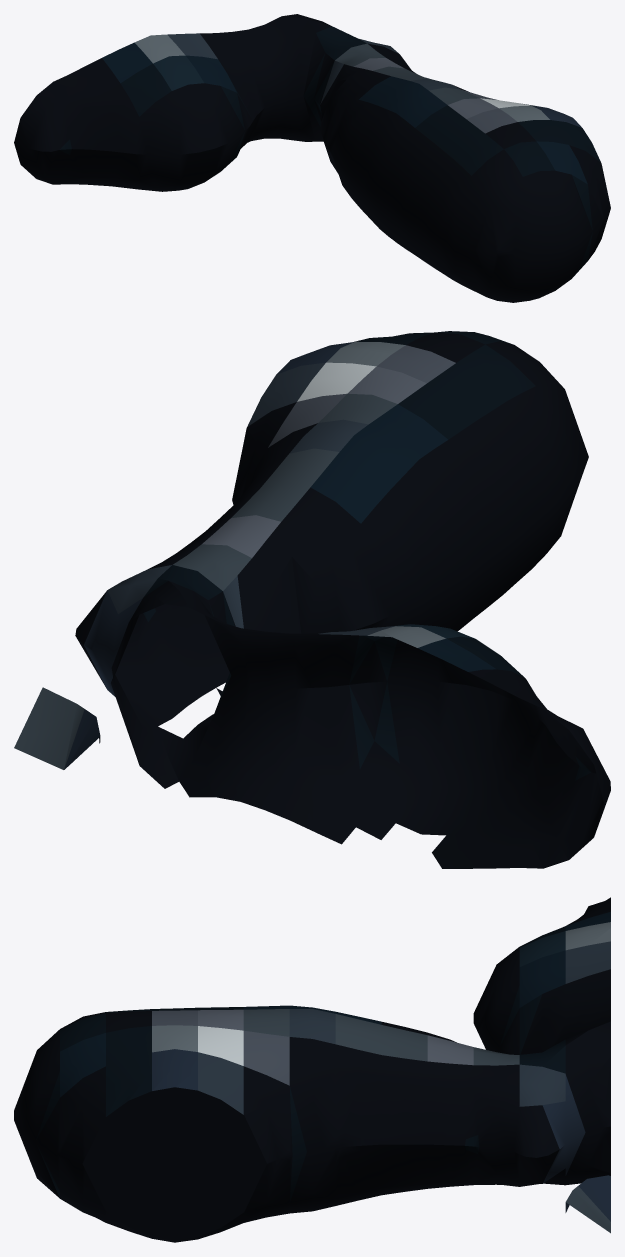
The model's file is gyges_maw_153.glb.
3 views of the same model, one above another, from view 1: azimuth 30°, elevation 25°; view 2: azimuth 150°, elevation 25°; view 3: azimuth 270°, elevation 25° (orthographic). The views are drawn at different scales.
Parts seen in each view (by area): view 1: gyges_maw_153_tendril2; view 2: gyges_maw_153_tendril2, gyges_maw_153_body; view 3: gyges_maw_153_tendril2, gyges_maw_153_body.
Boxes of the visible parts, x1,y1,x2,y2 form: gyges_maw_153_tendril2: (14, 14, 610, 302); gyges_maw_153_tendril2: (75, 331, 610, 868); gyges_maw_153_body: (14, 687, 100, 769); gyges_maw_153_tendril2: (14, 897, 610, 1242); gyges_maw_153_body: (565, 1175, 610, 1233).
Bounding box in the file's own units: 11.69 × 4.73 × 12.99.
